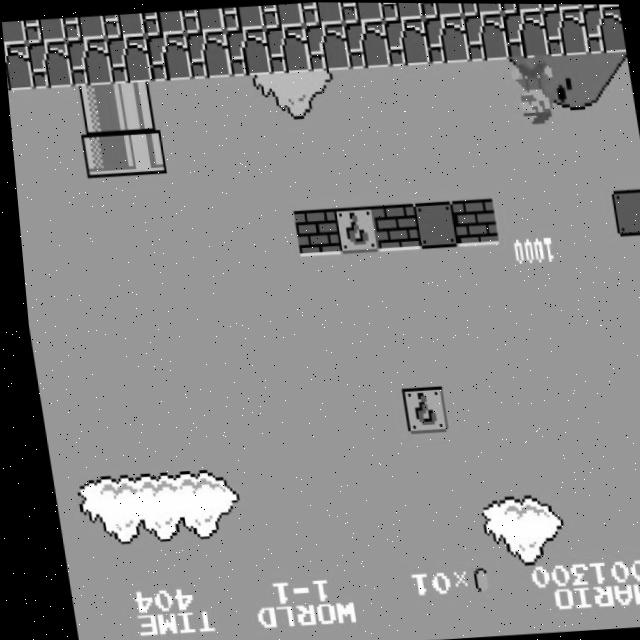1- brick_block: (288, 207, 336, 256), (448, 197, 495, 246), (368, 202, 415, 251)
13- mystery_block: (328, 204, 376, 254), (393, 385, 441, 433)
14- pipe: (111, 81, 158, 130), (71, 83, 118, 132)
15- pipe_head: (77, 128, 125, 178), (117, 126, 164, 175)
17- undestructible_block: (342, 19, 390, 69), (501, 9, 549, 58), (263, 25, 311, 74), (223, 27, 271, 76), (183, 30, 231, 79), (104, 35, 152, 84), (144, 32, 191, 82), (65, 37, 112, 87), (541, 7, 588, 56), (462, 12, 509, 61), (422, 14, 469, 63), (382, 17, 429, 66), (303, 22, 350, 71), (25, 40, 72, 89), (582, 4, 625, 53), (3, 42, 32, 91), (220, 5, 265, 31), (180, 7, 225, 33), (101, 12, 146, 38), (61, 15, 106, 41), (21, 17, 66, 43), (260, 2, 304, 28), (141, 10, 185, 36), (299, 2, 344, 25), (339, 2, 383, 23), (379, 2, 423, 20), (419, 2, 463, 18), (1, 20, 26, 46), (459, 3, 503, 15), (499, 3, 543, 12), (539, 3, 582, 10)
3- empty_block: (408, 199, 455, 249), (607, 187, 640, 235)
